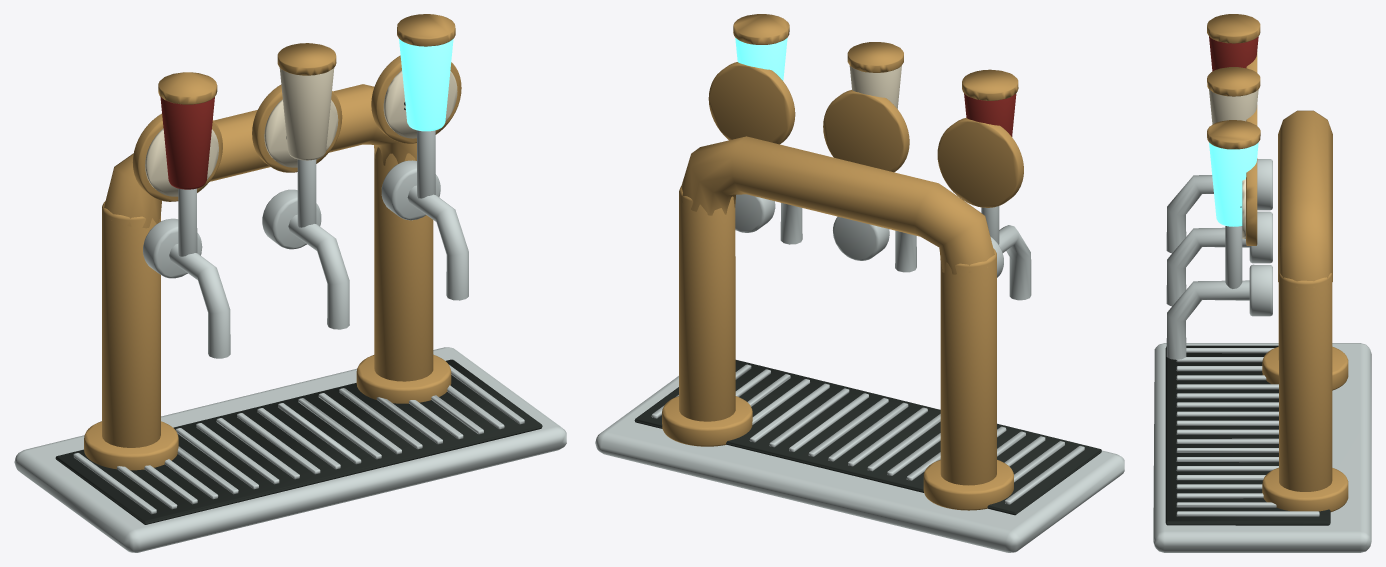
The model's file is brass-beer-taps.glb.
3 views of the same model, side by side, from view 1: azimuth 30°, elevation 25°; view 2: azimuth 150°, elevation 25°; view 3: azimuth 270°, elevation 25° (orthographic). The views are drawn at different scales.
Parts seen in each view (by area): view 1: brass-beer-taps; view 2: brass-beer-taps; view 3: brass-beer-taps.
Boxes of the visible parts, x1,y1,x2,y2 form: brass-beer-taps: (14, 14, 566, 552); brass-beer-taps: (595, 14, 1124, 552); brass-beer-taps: (1153, 14, 1371, 552).
Bounding box in the file's own units: 1.3 × 1.17 × 0.61.
